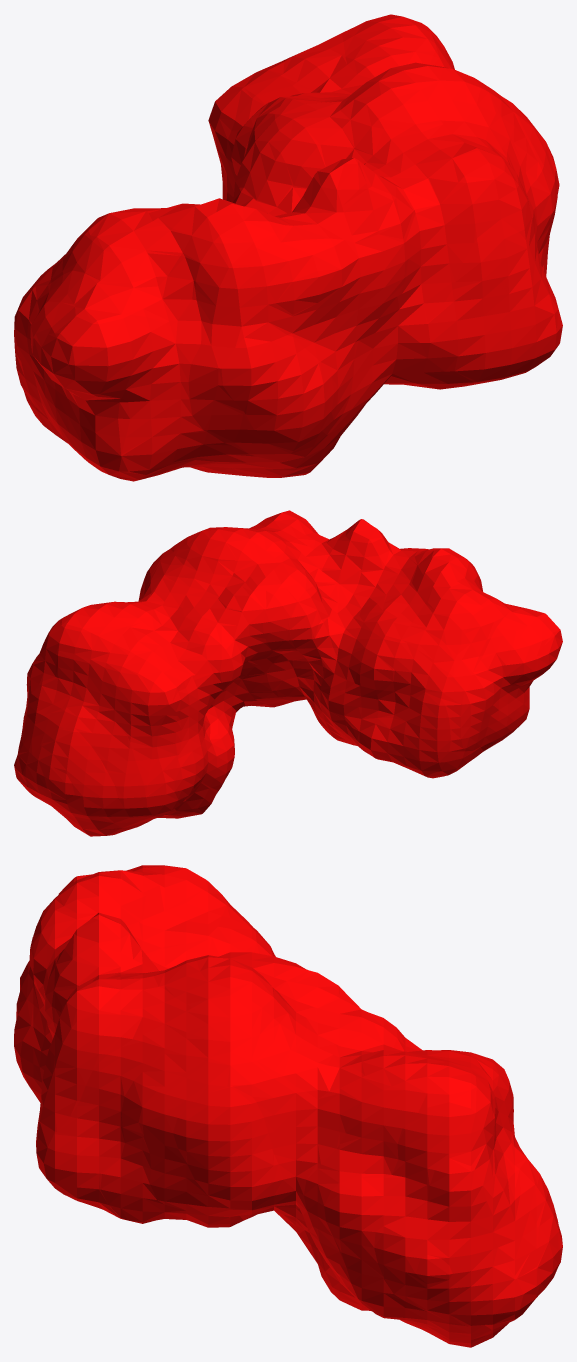
Rendered from fdx_coarse.dae.
3 views of the same model, one above another, from view 1: azimuth 30°, elevation 25°; view 2: azimuth 150°, elevation 25°; view 3: azimuth 270°, elevation 25° (orthographic). The views are drawn at different scales.
Visible parts, largest first — view 1: fdx; view 2: fdx; view 3: fdx.
Part boxes in pixels (bbox=[...]): fdx: bbox=[14, 14, 562, 481]; fdx: bbox=[14, 510, 562, 836]; fdx: bbox=[14, 865, 562, 1347].
Bounding box in the file's own units: 77.05 × 45.26 × 65.48.
